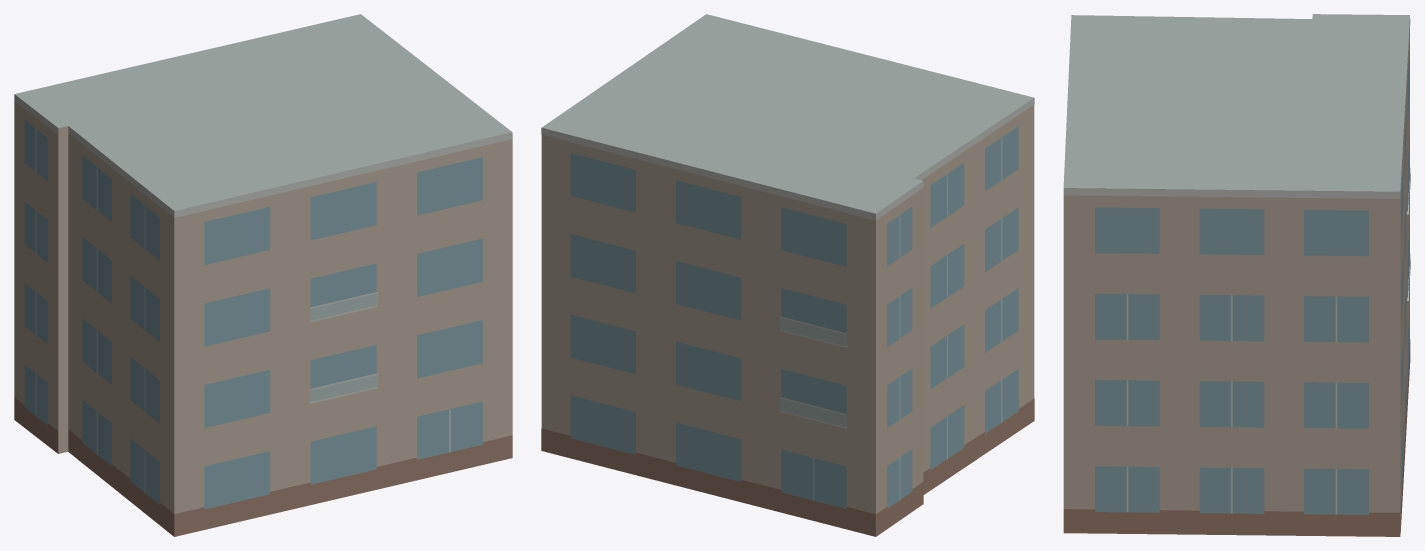
The model's file is survey-upis-32957996.glb.
The picture shows the model from 3 angles, left to right: view 1: azimuth 30°, elevation 25°; view 2: azimuth 150°, elevation 25°; view 3: azimuth 270°, elevation 25°; orthographic projection. The views are drawn at different scales.
Visible parts, largest first — view 1: survey-upis-32957996.tmp; view 2: survey-upis-32957996.tmp; view 3: survey-upis-32957996.tmp.
Part boxes in pixels (bbox=[...]): survey-upis-32957996.tmp: bbox=[14, 14, 512, 536]; survey-upis-32957996.tmp: bbox=[541, 14, 1034, 536]; survey-upis-32957996.tmp: bbox=[1063, 14, 1410, 536].
Bounding box in the file's own units: 12.71 × 11.5 × 10.49.
